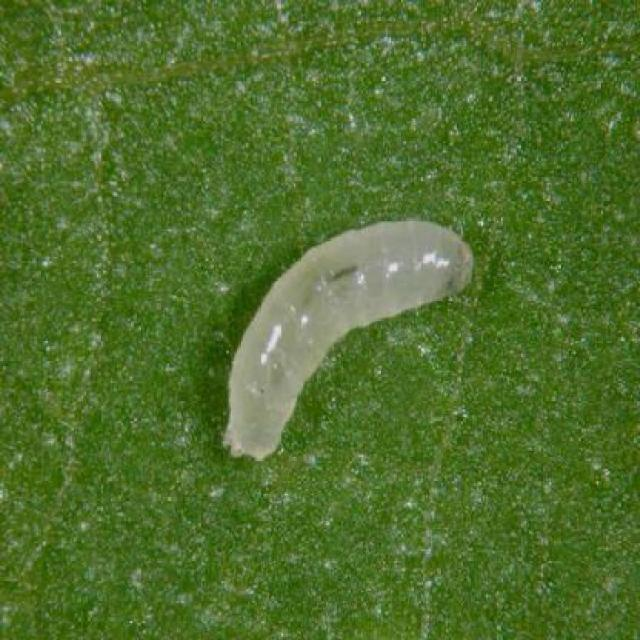whorl-maggot: (220, 214, 480, 471)
